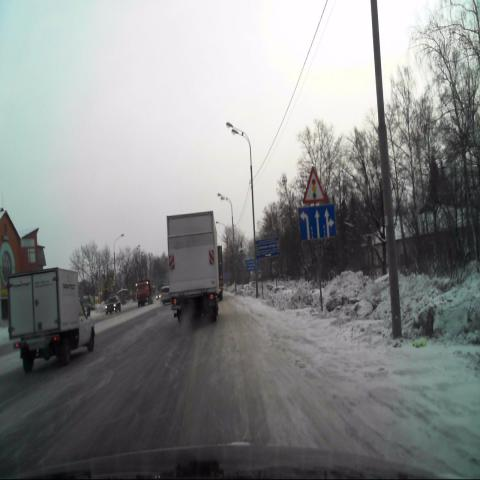1_8: (303, 166, 326, 204)
5_15_1: (299, 205, 336, 239)
